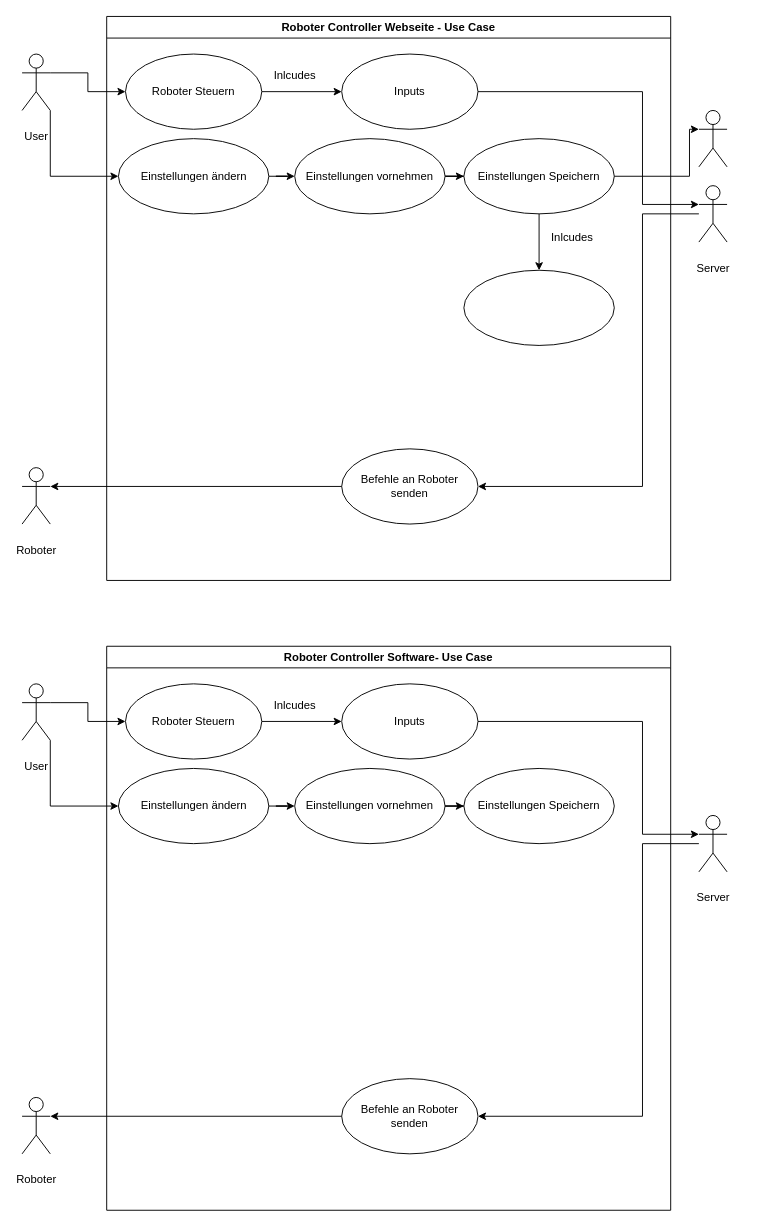
Image size: 757x1227. Some labels were removed from this diagram. Each missing label, with the centre of its shape:
"Datenbank" belongs at point (712, 138).
"Login mit account" belongs at point (538, 307).
